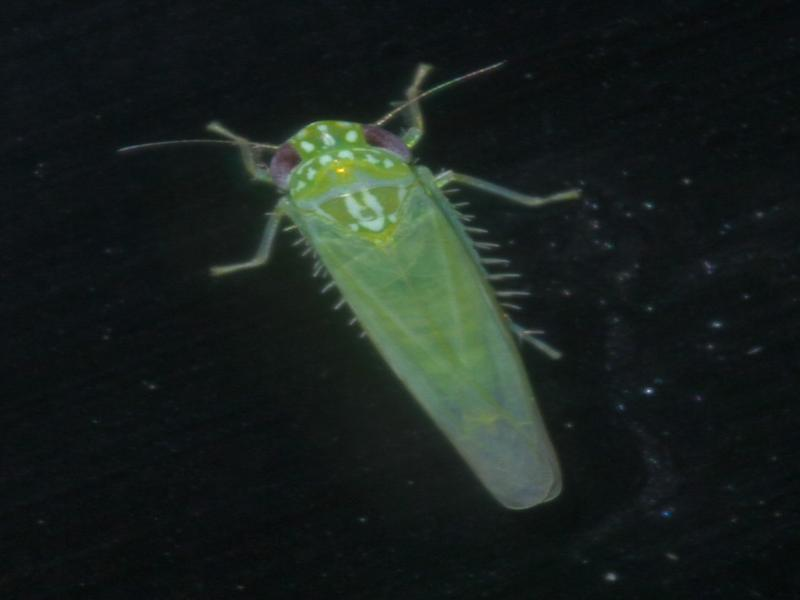Brown_plant_leafhopper: (190, 97, 585, 536)
